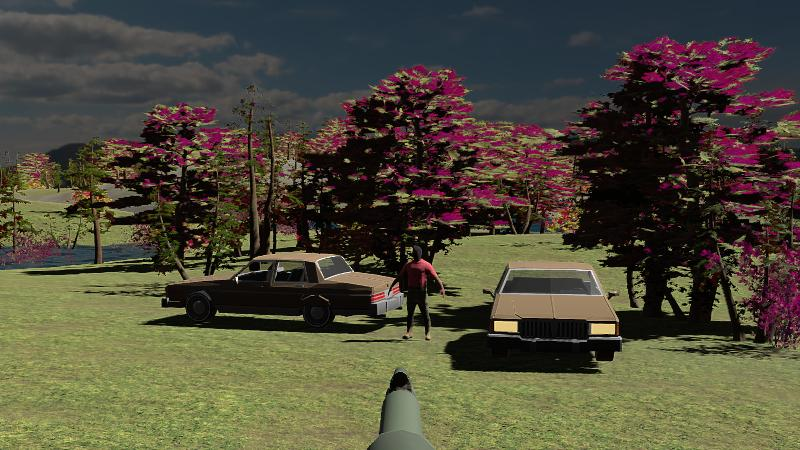Human: (397, 245, 444, 341)
car: (165, 251, 403, 330), (161, 251, 403, 328), (486, 260, 622, 362)
